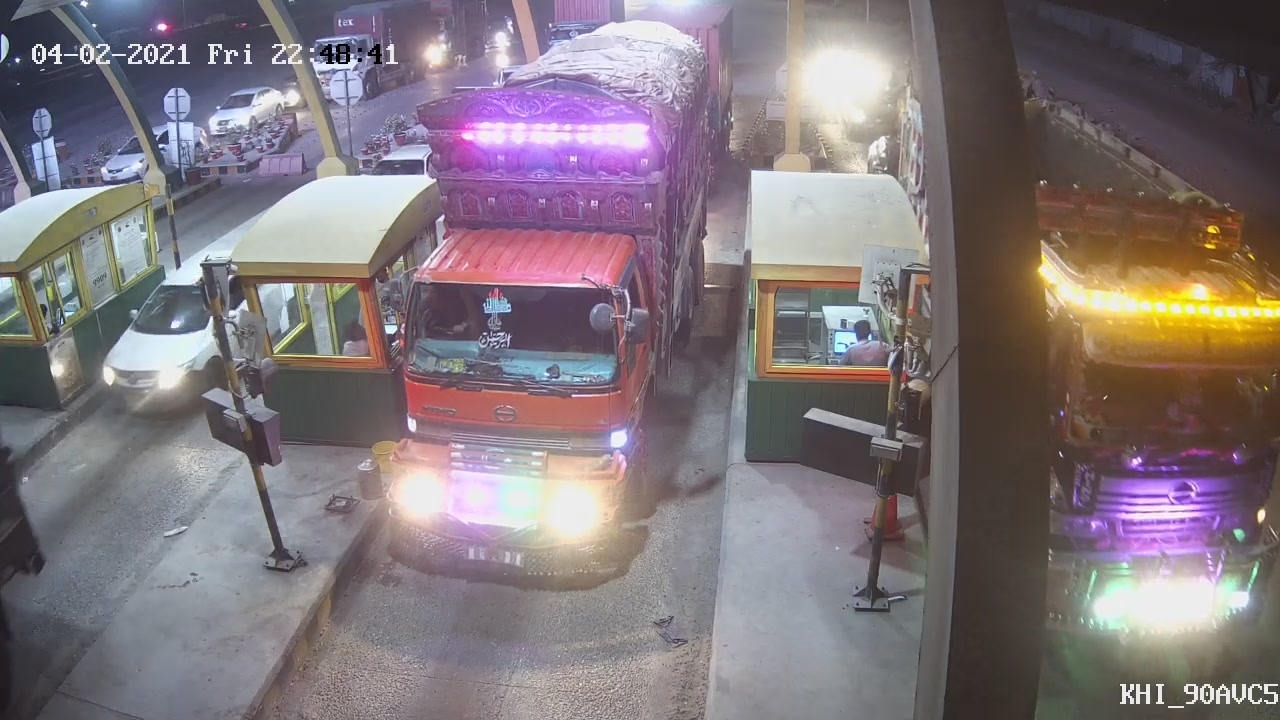F5: (389, 24, 724, 591)
